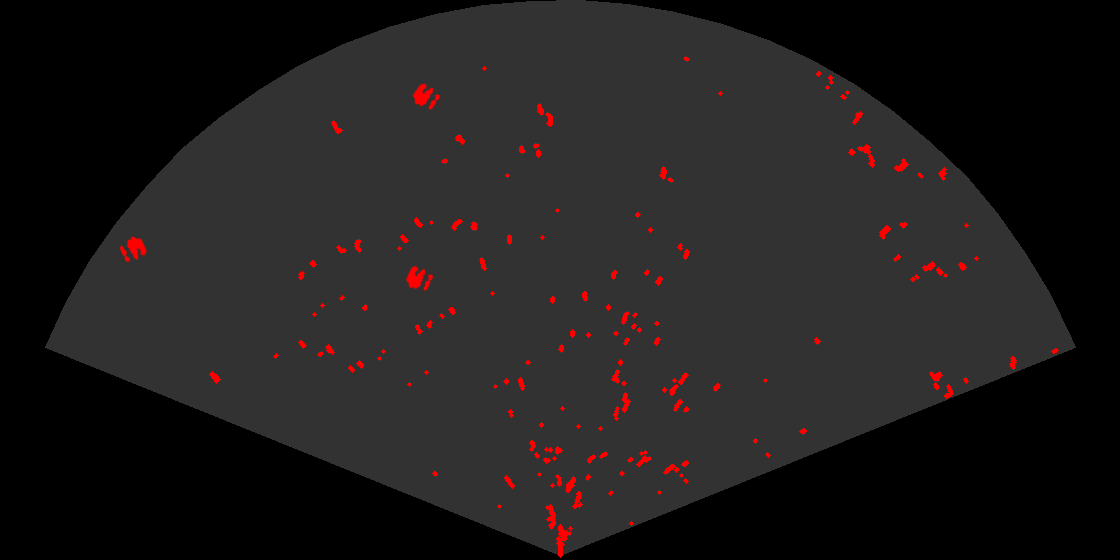ball: (411, 82, 442, 111), (404, 264, 435, 293), (118, 235, 148, 264)
